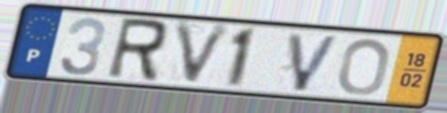1: (227, 24, 264, 92)
3: (59, 15, 107, 77)
O: (336, 36, 393, 97)
R: (103, 15, 171, 85)
V: (171, 18, 237, 90), (285, 30, 344, 94)
